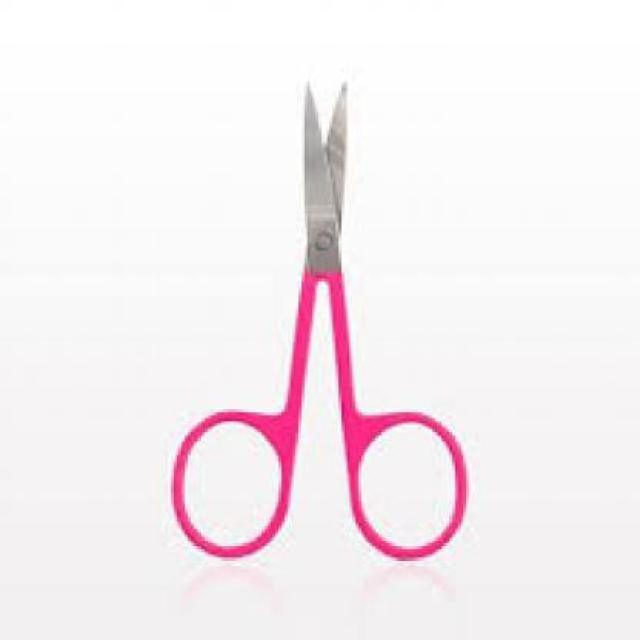scissors: (170, 82, 470, 564)
